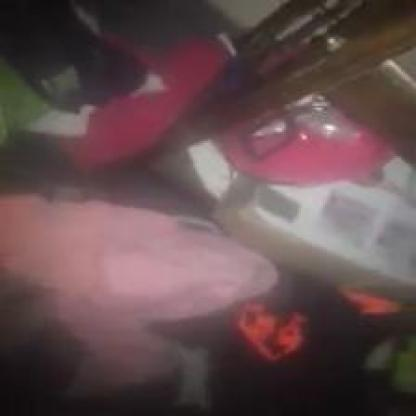other: (231, 302, 303, 364), (328, 275, 394, 316)
